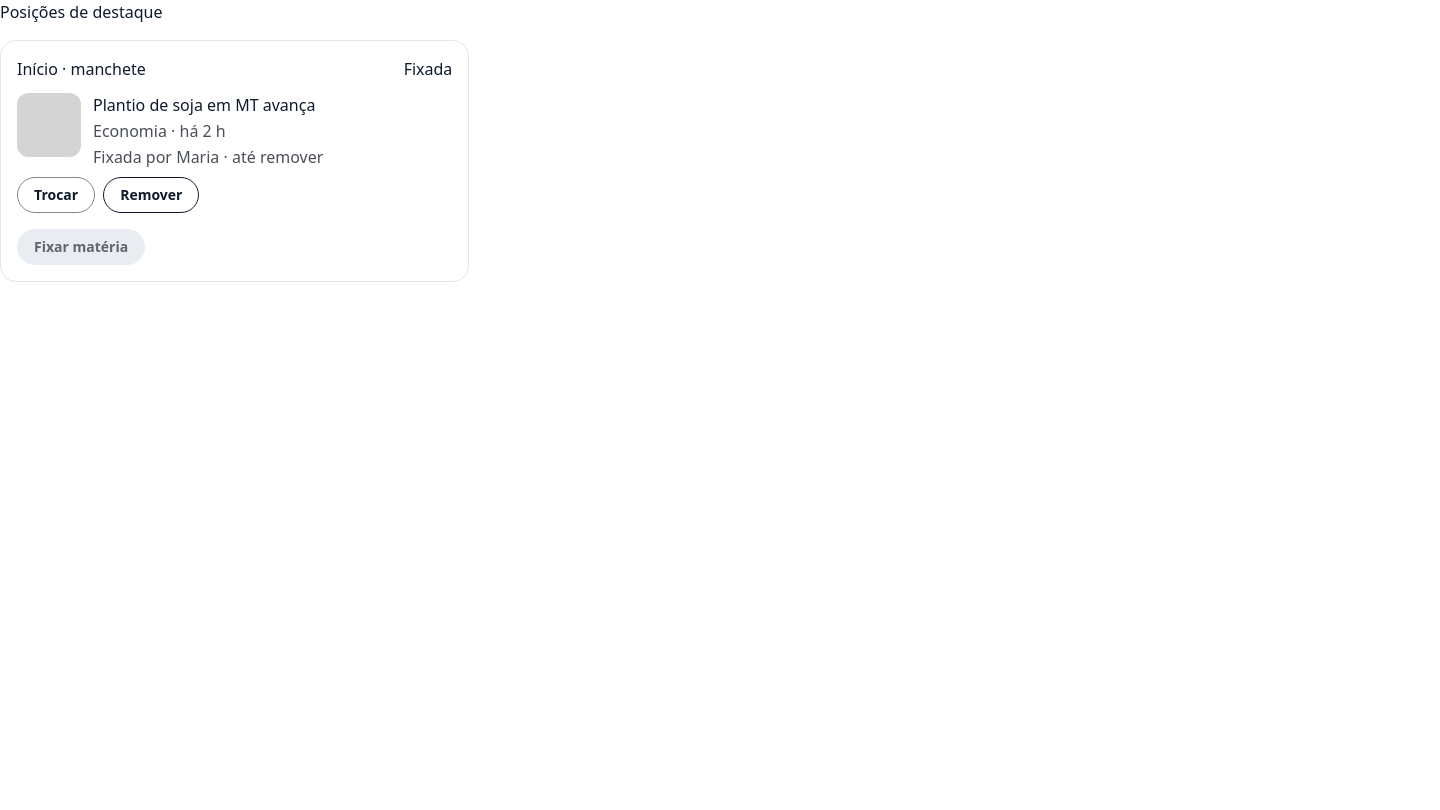
FeaturedBoard · remover › sem prazo também pede a confirmação digitada
Click the button "Remover".
click(151, 195)  # box [103,177,200,213]
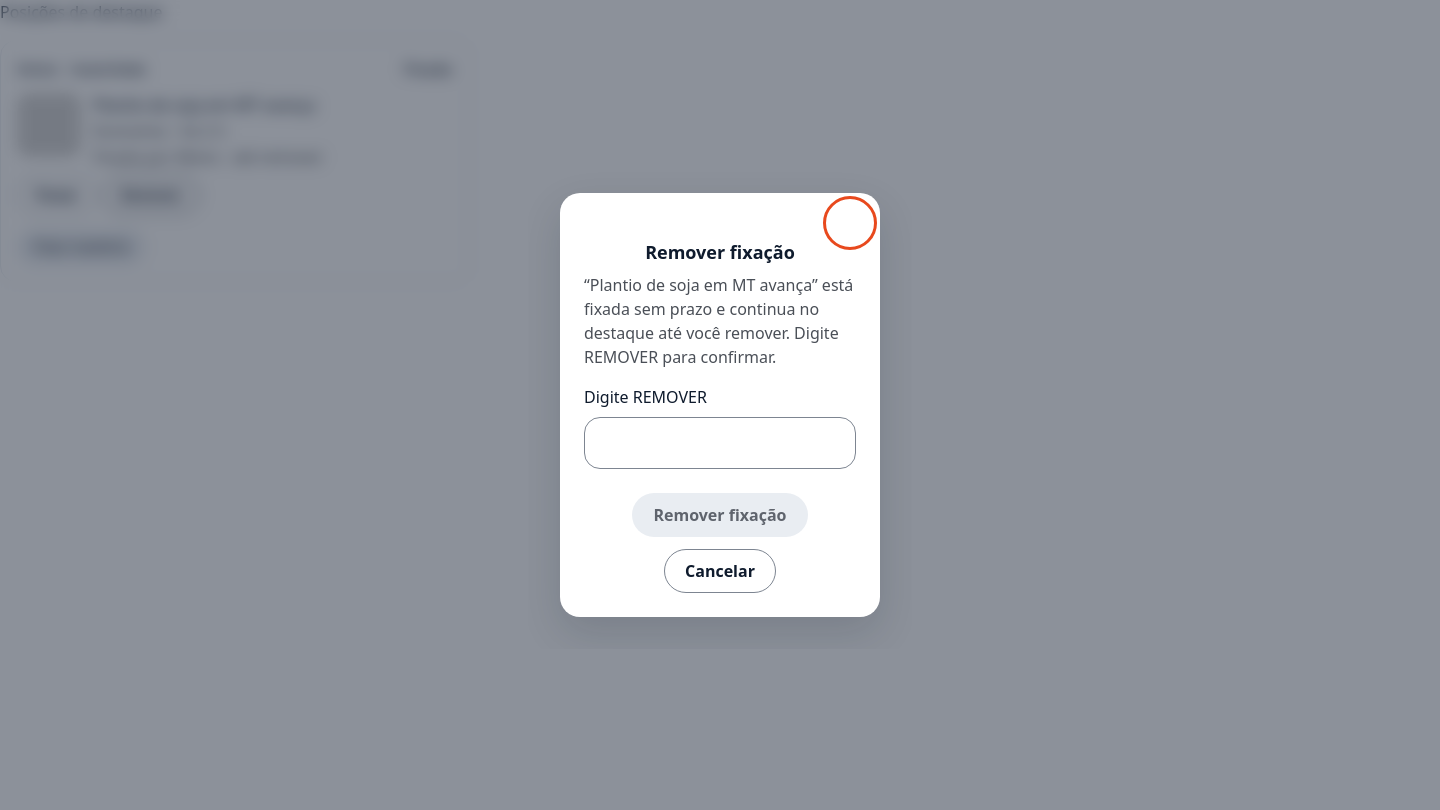
Result: the text "sem prazo" is shown at [584,274,853,368]
